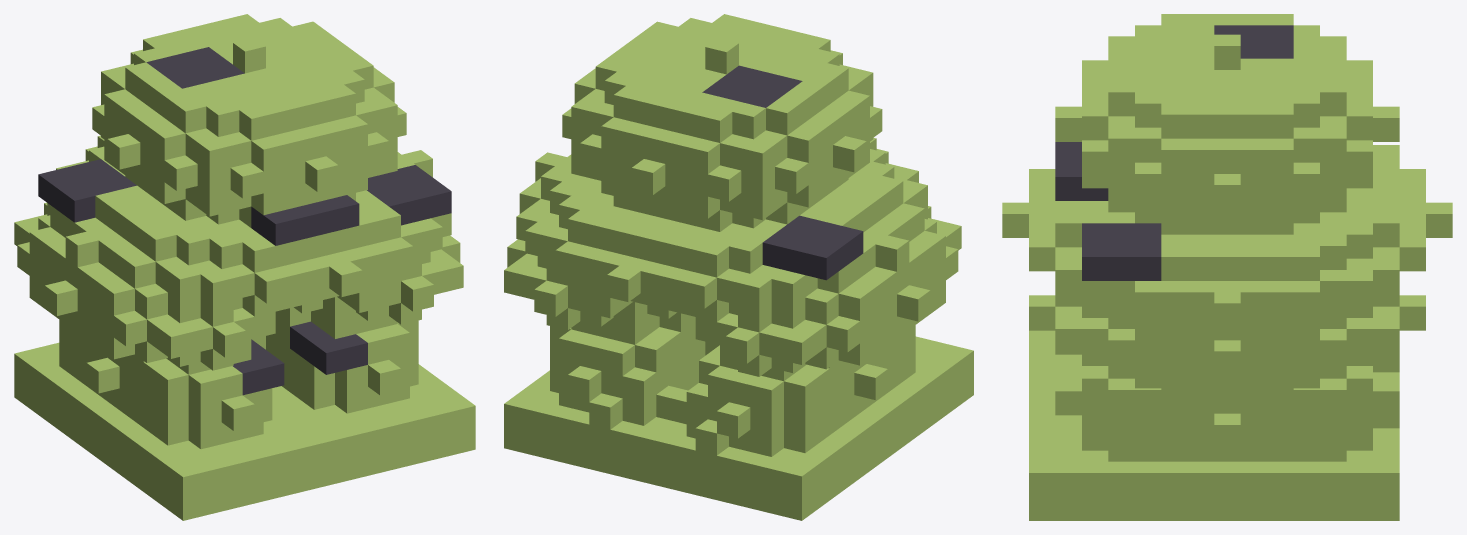
Rendered from core.glb.
3 renders of one model, left to right at view 1: azimuth 30°, elevation 25°; view 2: azimuth 150°, elevation 25°; view 3: azimuth 270°, elevation 25°, orthographic. The views are drawn at different scales.
Bounding box in the file's own units: 18 × 17 × 17.
